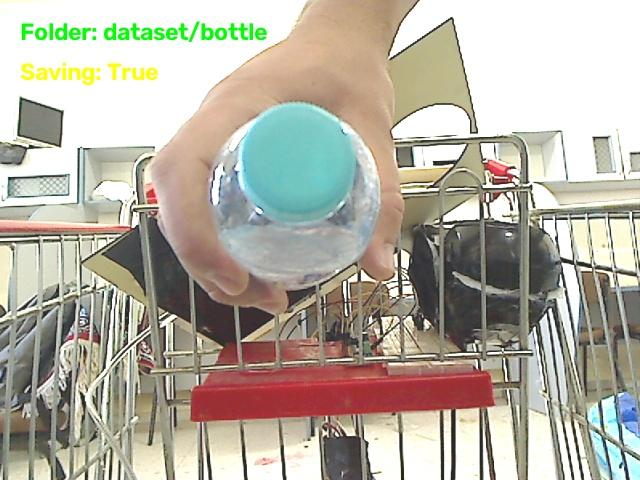Bottle: (211, 104, 379, 289)
